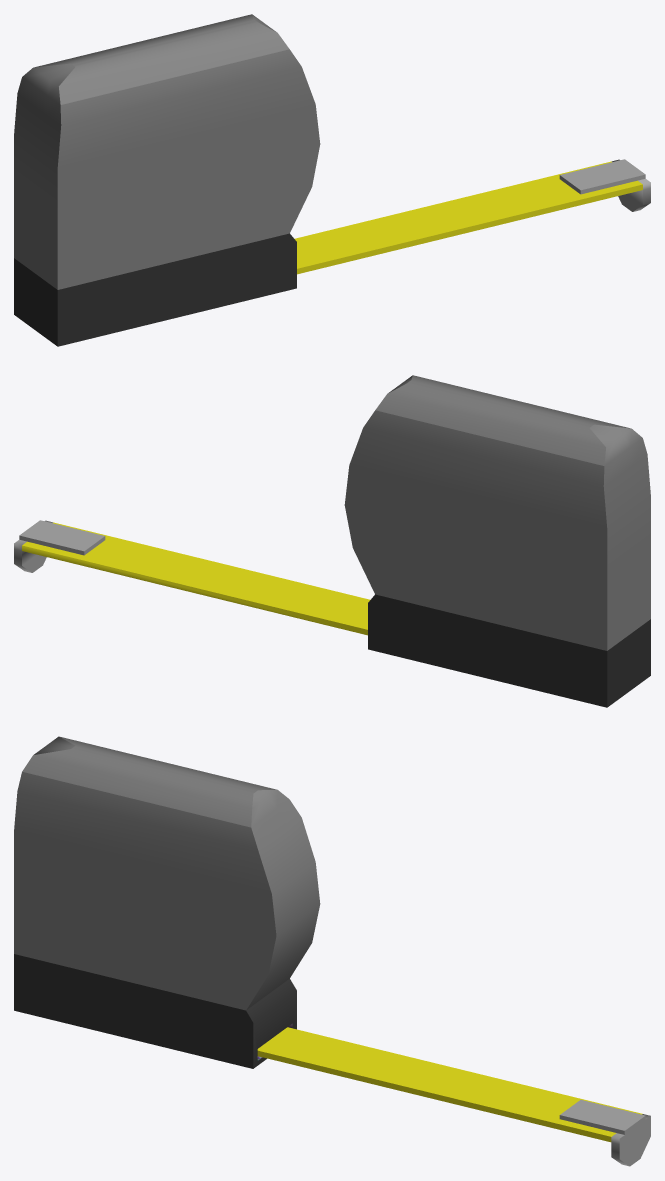
3 renders of one model, top to bottom at view 1: azimuth 30°, elevation 25°; view 2: azimuth 150°, elevation 25°; view 3: azimuth 330°, elevation 25°, orthographic.
Visible parts, largest first — view 1: TapeMeasure; view 2: TapeMeasure; view 3: TapeMeasure.
Part boxes in pixels (<box>): TapeMeasure: <box>14,14,650,346</box>; TapeMeasure: <box>14,375,650,707</box>; TapeMeasure: <box>14,736,650,1166</box>.
Size of what is drawn, in the model's own units: 0.2631 by 0.1167 by 0.0333.
Materials: 2 (2 with a texture image).
